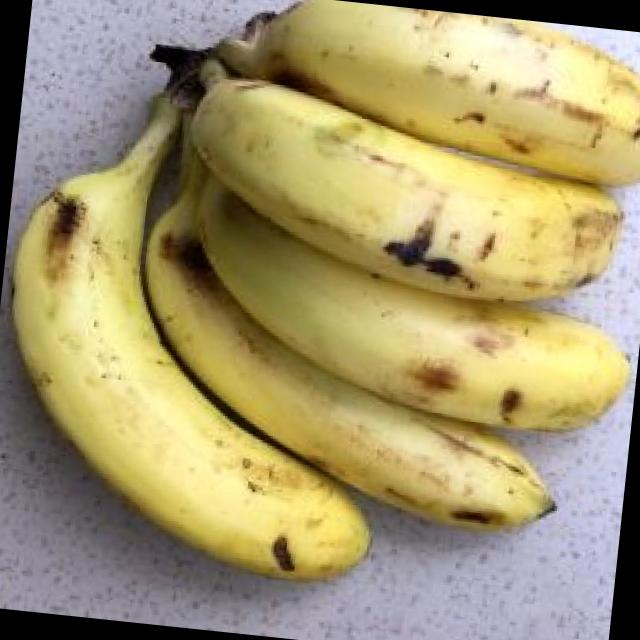banana: (137, 155, 594, 561)
